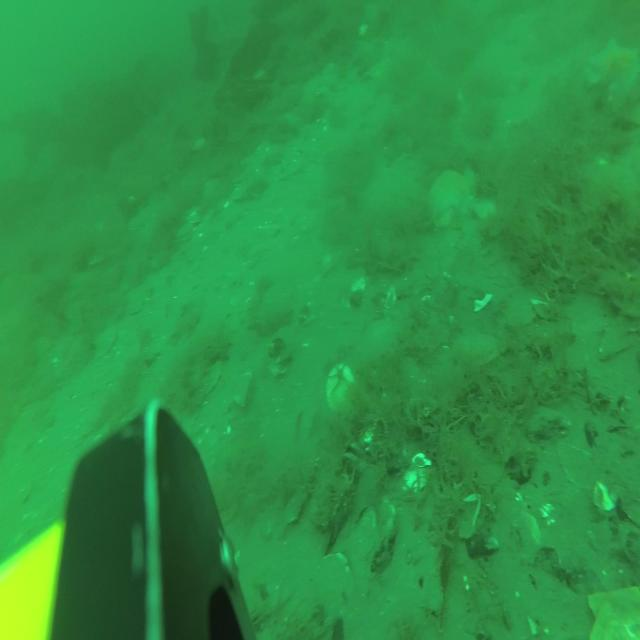scallop: (325, 361, 355, 418), (175, 222, 194, 241)
starfish: (427, 168, 480, 230), (590, 34, 638, 96)
